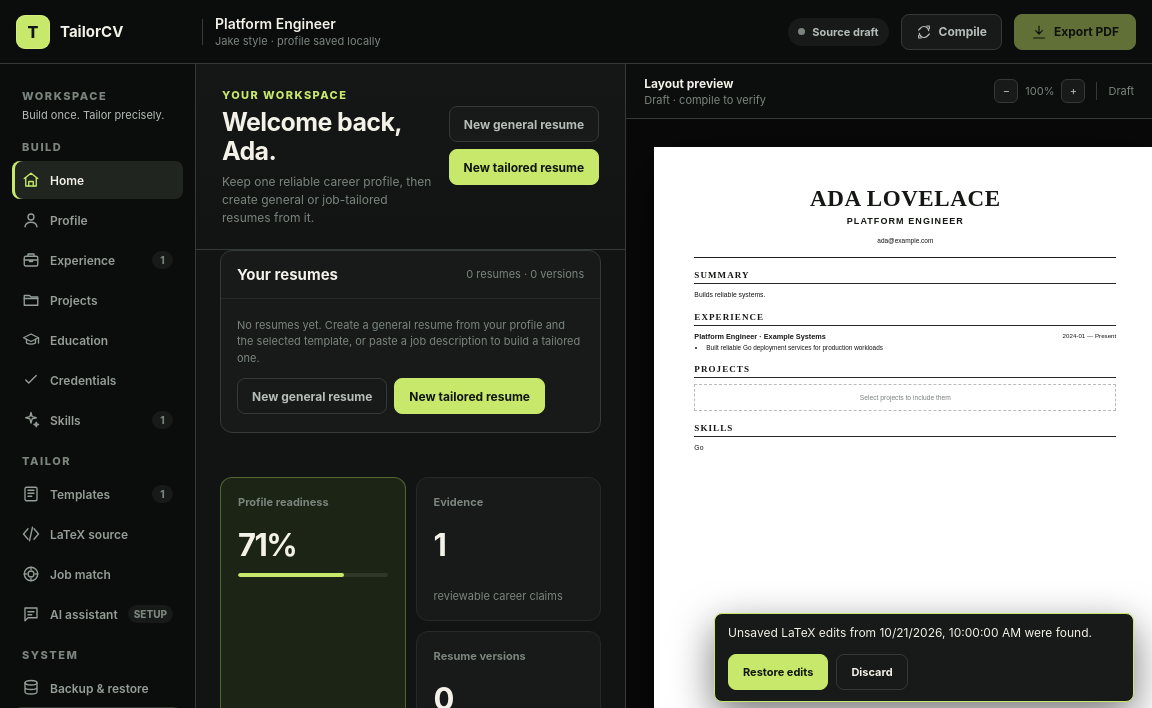
it: App Wails workflow integration › discards a recovered LaTeX draft
Click the button "Discard" at (872, 672), box [836,654,908,690]
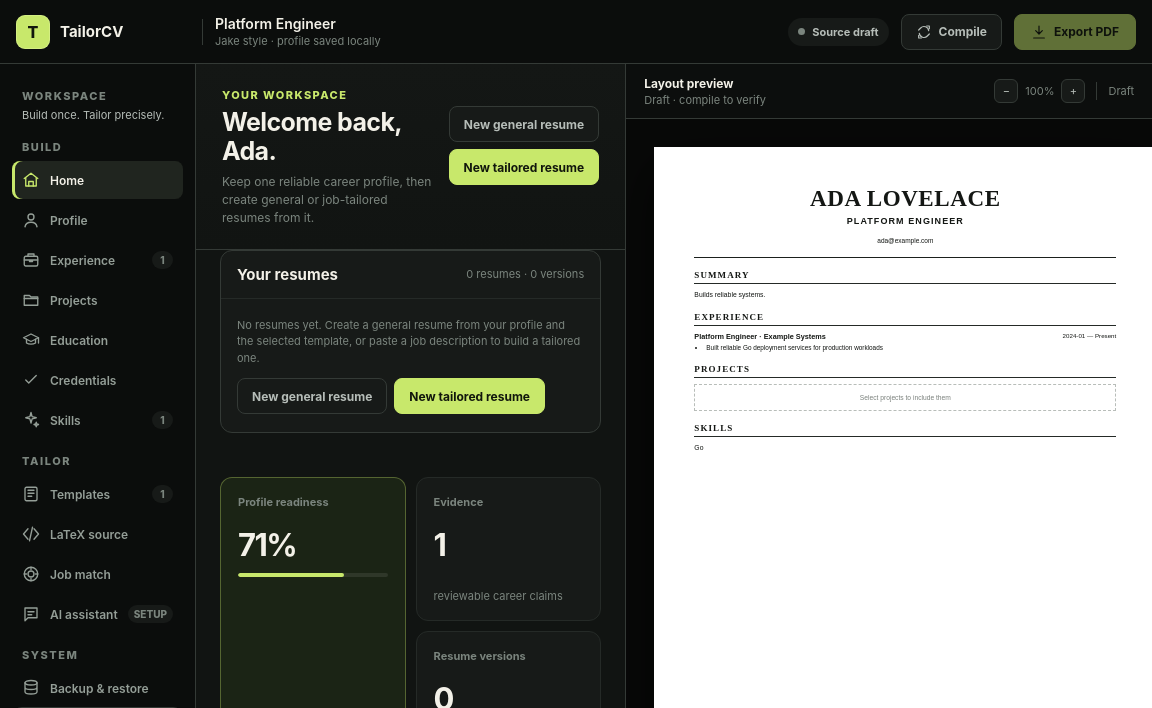
Now the text "Unsaved LaTeX edits from" is gone
